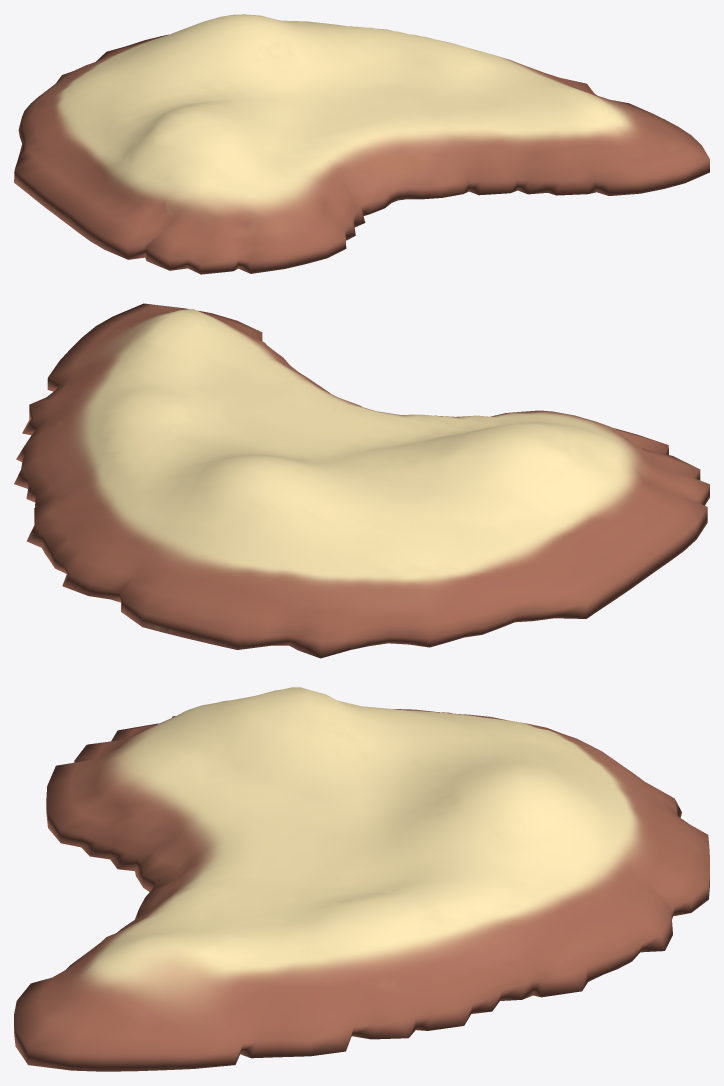
The model's file is Island1.glb.
3 renders of one model, top to bottom at view 1: azimuth 30°, elevation 25°; view 2: azimuth 150°, elevation 25°; view 3: azimuth 270°, elevation 25°, orthographic. The views are drawn at different scales.
Parts seen in each view (by area): view 1: Island1; view 2: Island1; view 3: Island1.
Part boxes in pixels (<box>): Island1: <box>14,14,709,274</box>; Island1: <box>14,303,709,658</box>; Island1: <box>14,687,709,1071</box>.
Size of the model in its own units: 115 by 16.83 by 98.26.
Materials: 1 (1 with a texture image).
